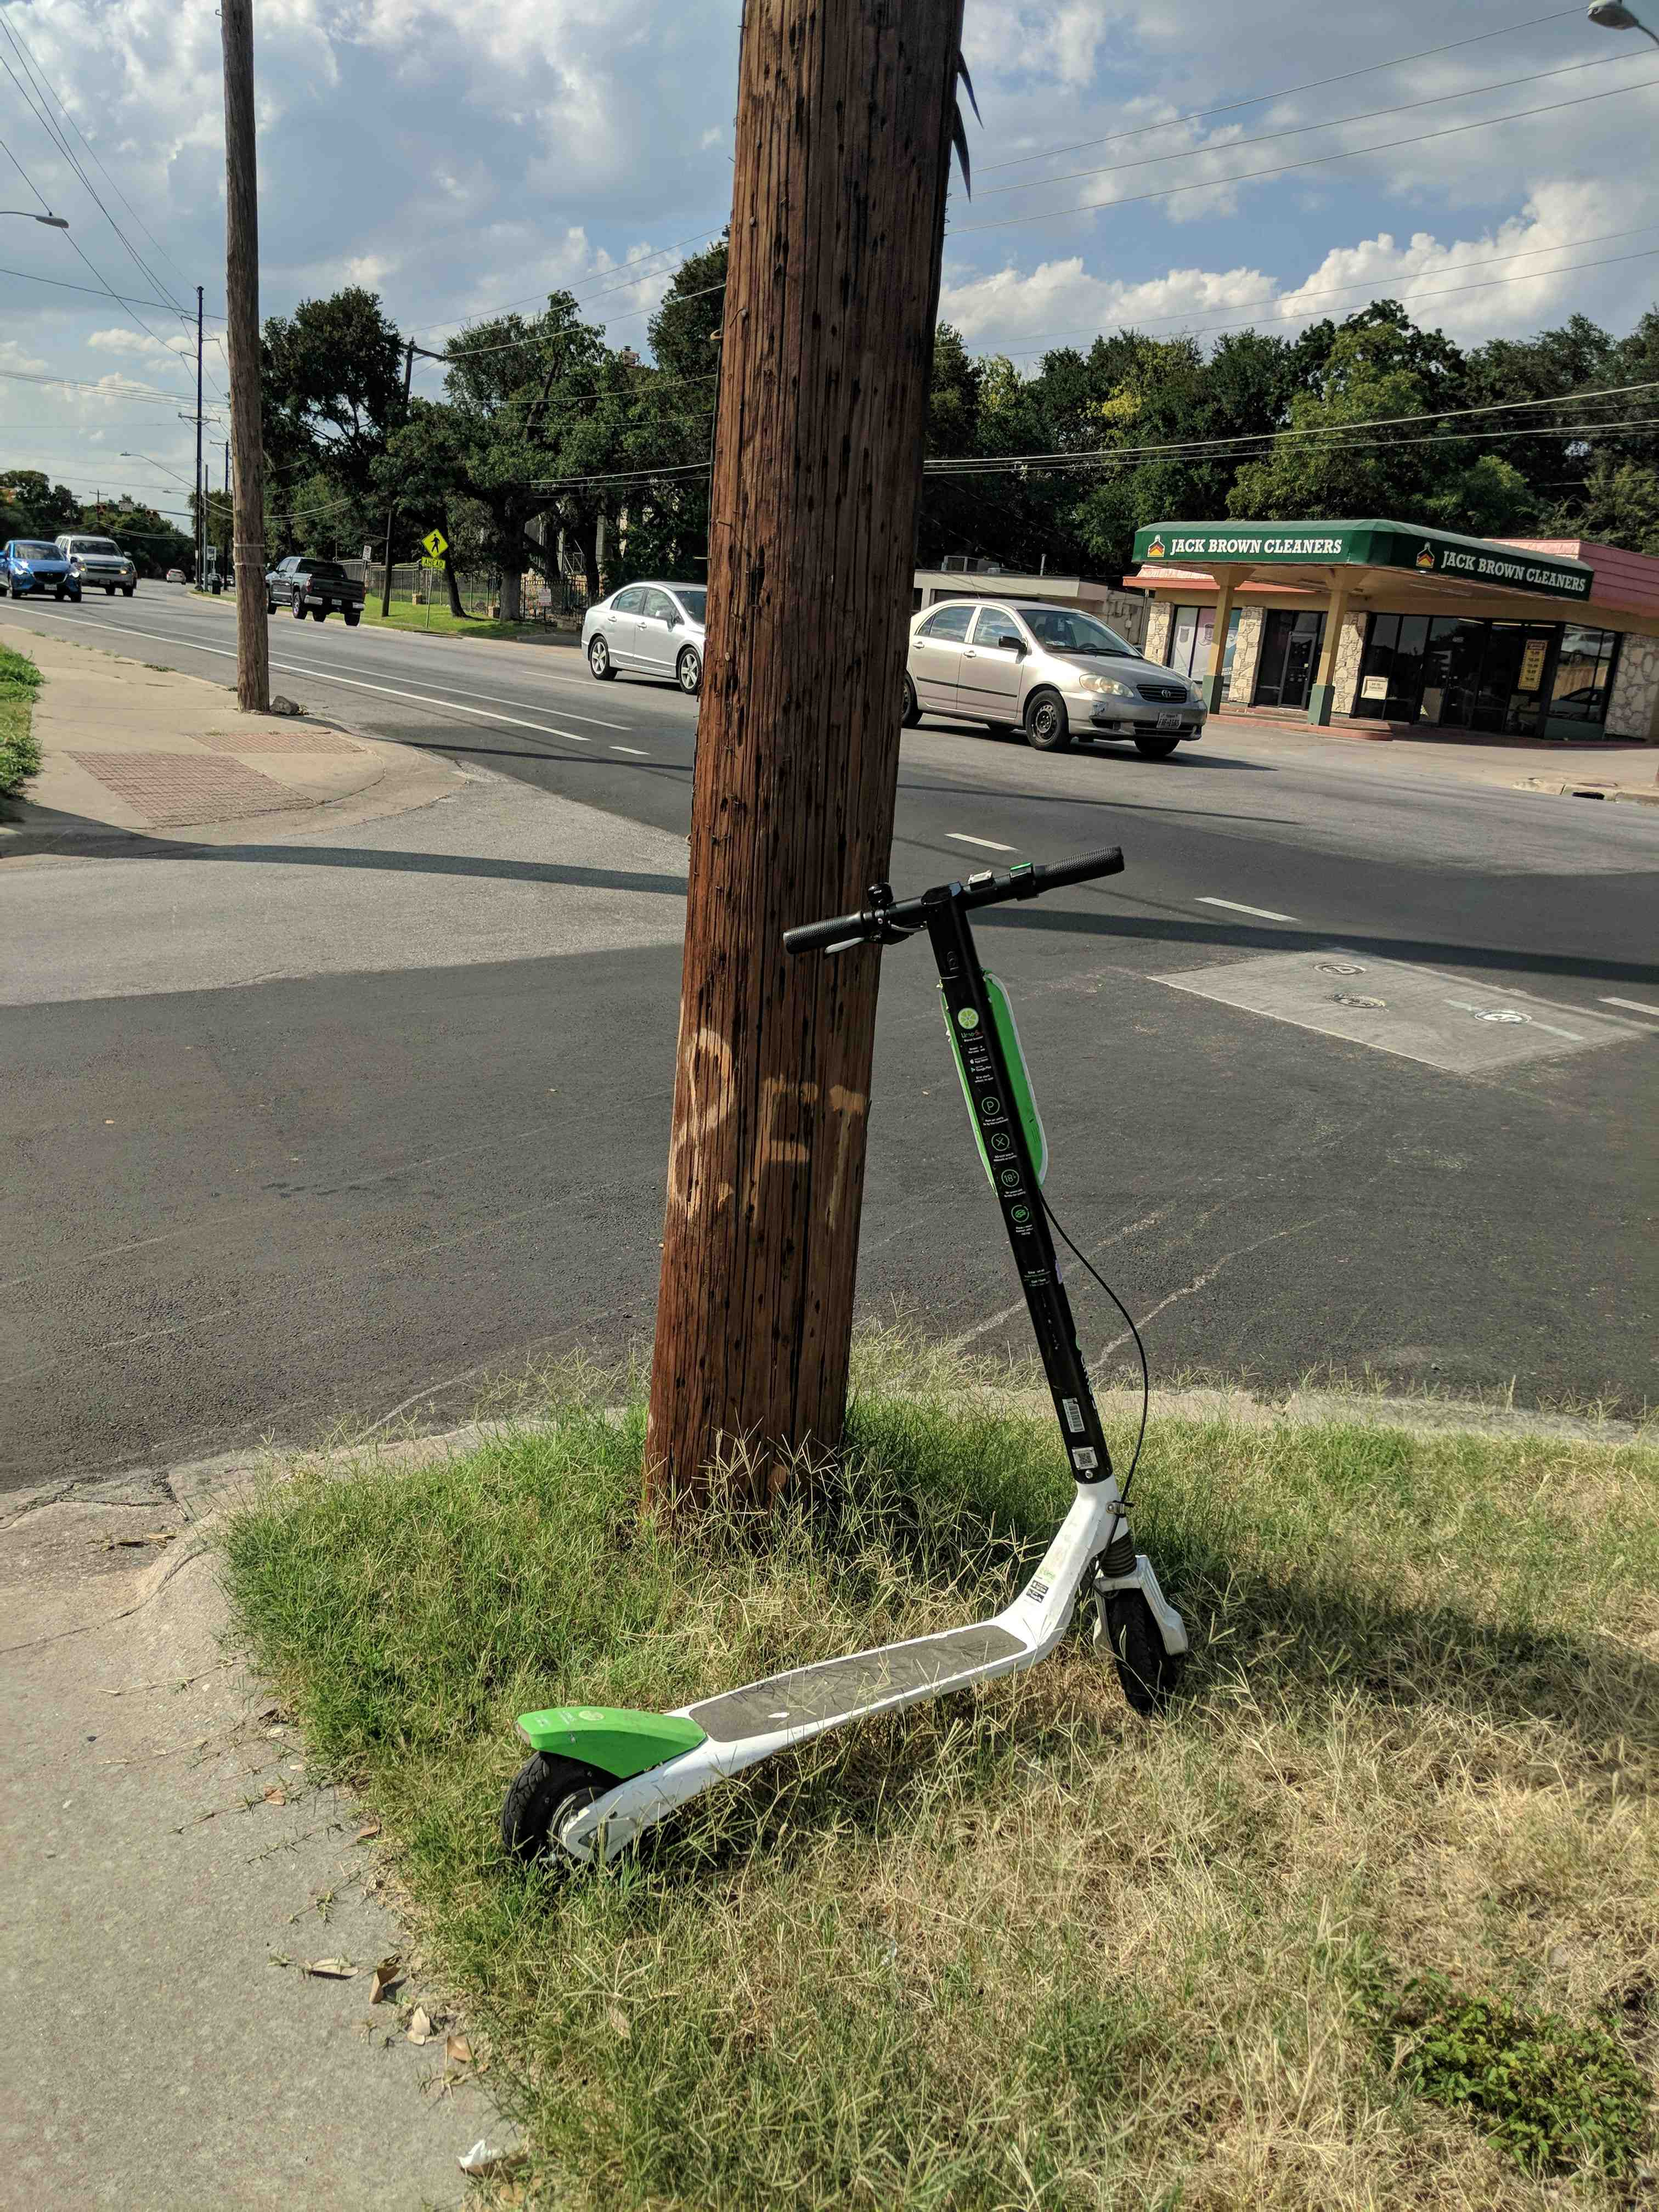scooter: (460, 789, 1232, 1928)
